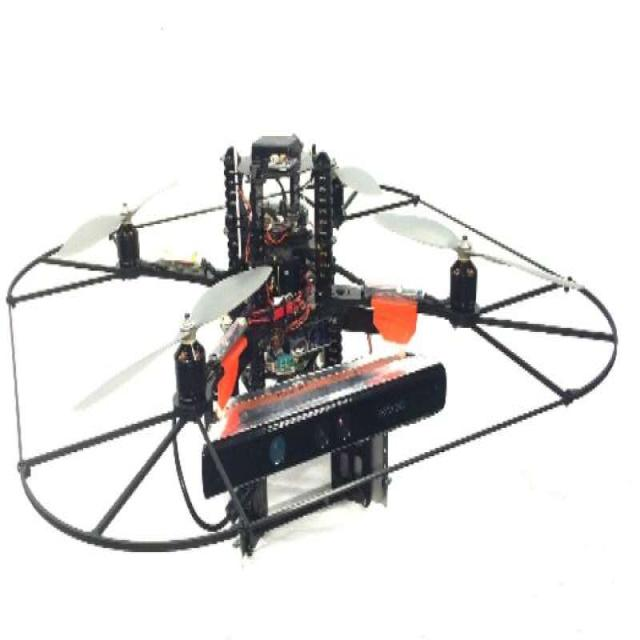drone: (29, 147, 613, 510)
